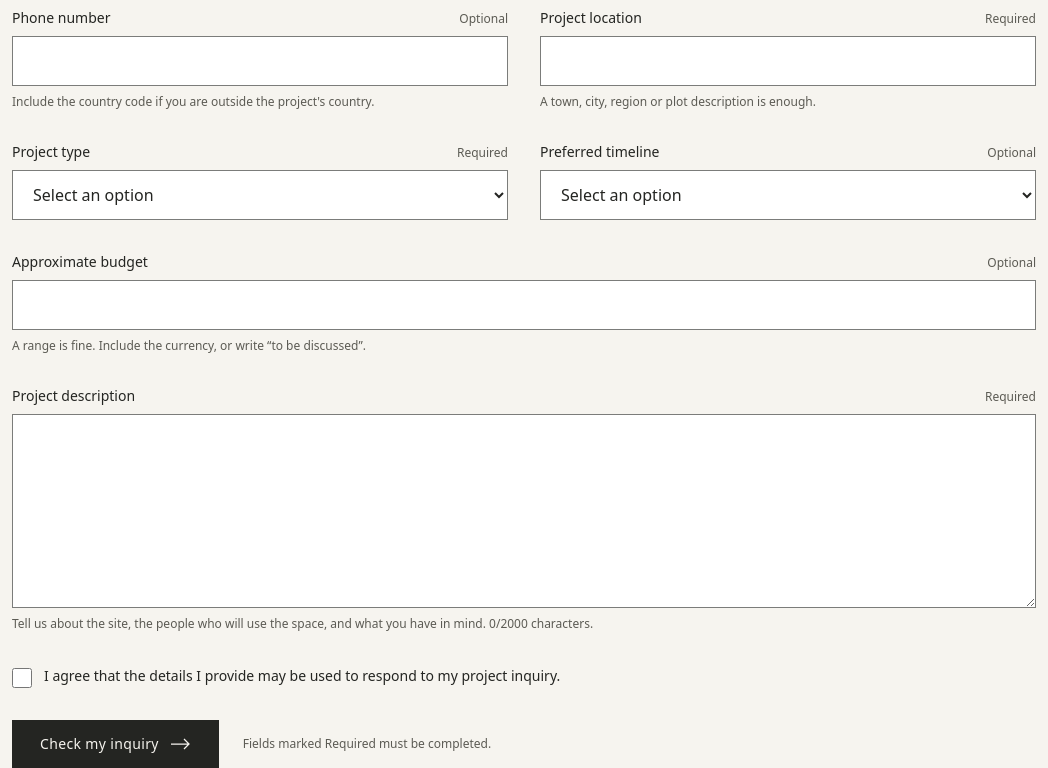
Scenario: ContactForm without a submission service › shows an error summary, marks fields invalid, and moves focus to the summary
(page scrolled)
Click the button "Check my inquiry" at (115, 744), box [12,720,219,767]
(page scrolled)
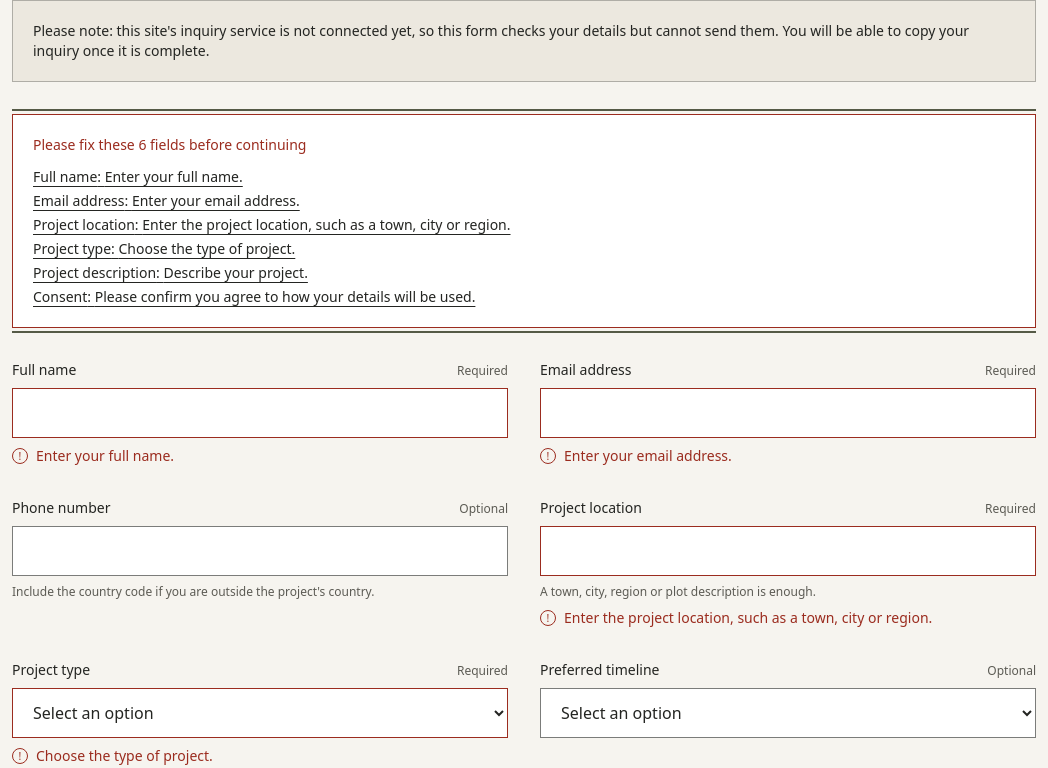
Expected: the message shows "these 6 fields", [99,135,185,154]
